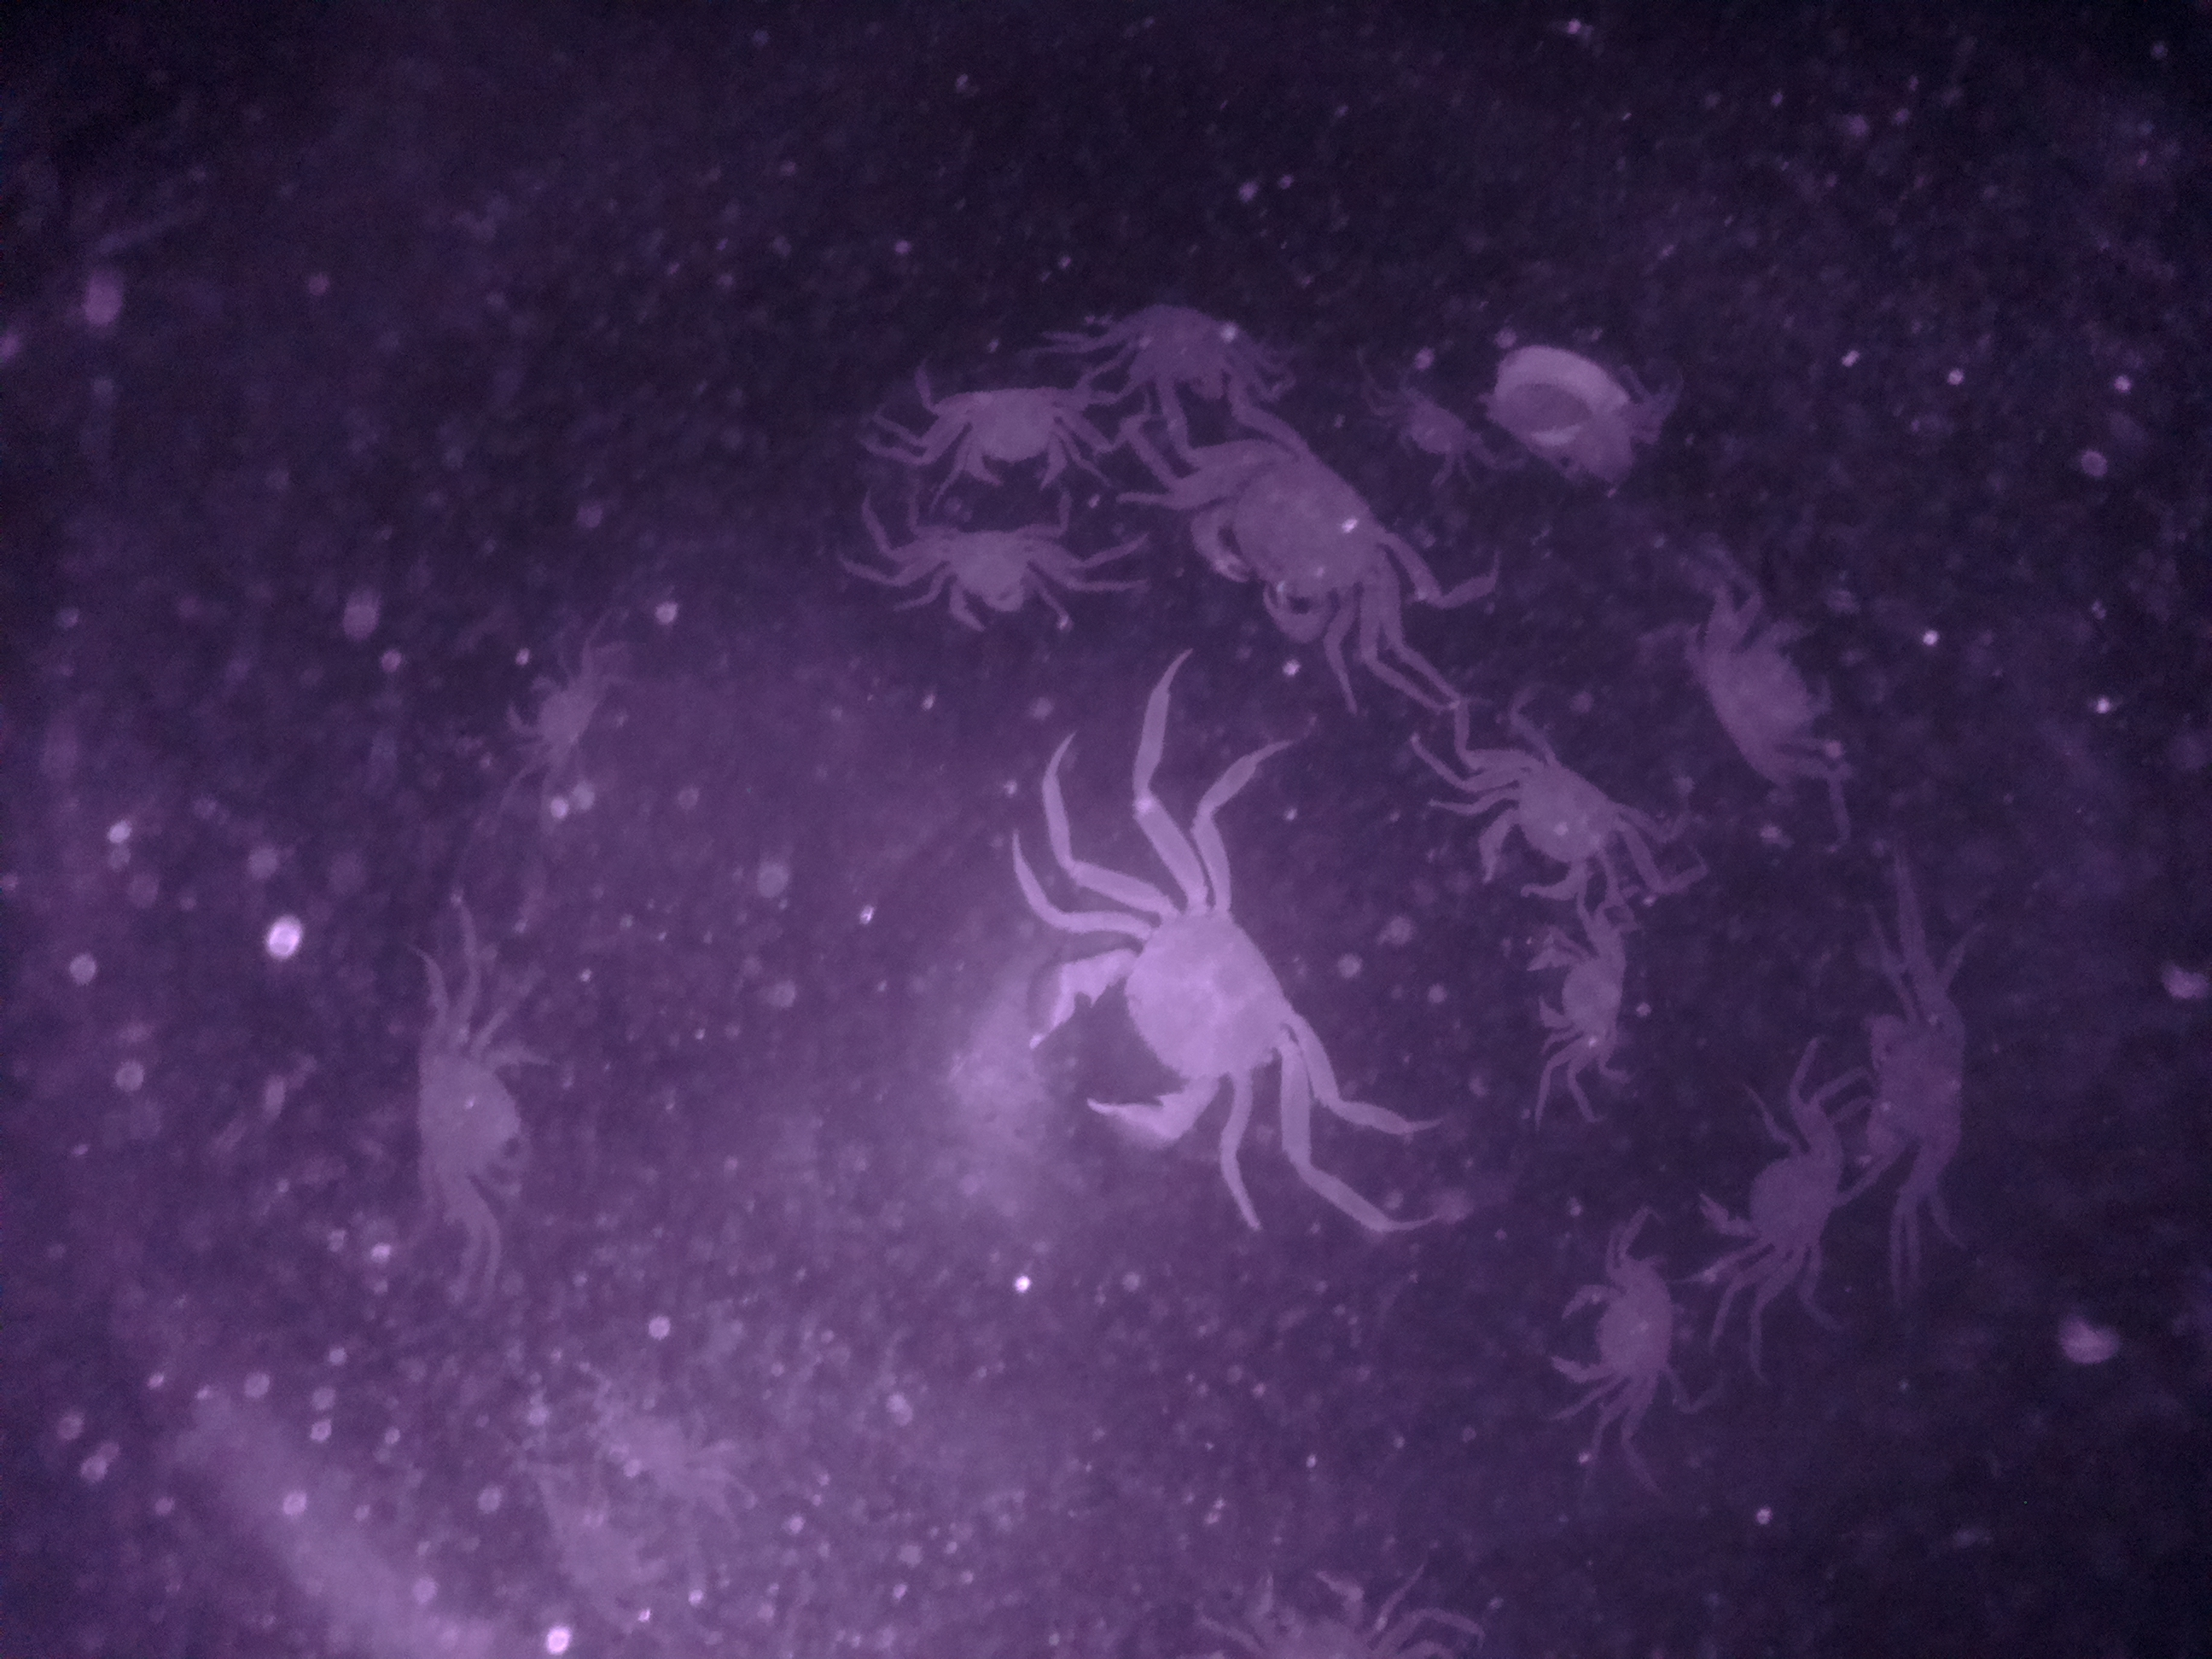Crab: (1024, 871, 1329, 1168), (1181, 397, 1423, 660), (1688, 1084, 1865, 1312), (1851, 965, 2000, 1208), (1458, 732, 1635, 915), (894, 366, 1106, 500), (1550, 1241, 1686, 1436), (895, 507, 1090, 627), (1508, 927, 1642, 1065)
